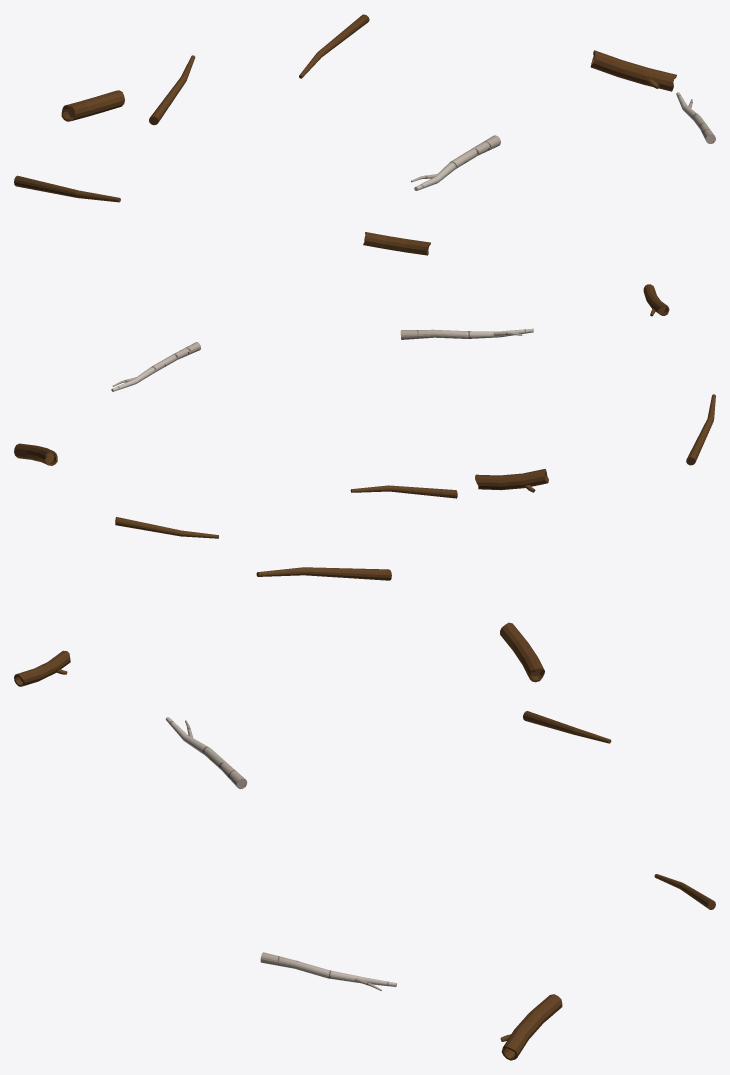
The model's file is Branches1.gltf.
3 views of the same model, one above another, from view 1: azimuth 30°, elevation 25°; view 2: azimuth 150°, elevation 25°; view 3: azimuth 270°, elevation 25° (orthographic). The views are drawn at different scales.
Visible parts, largest first — view 1: BeechBranch1 - copy.015, BeechBranch1 - copy.003, BirchBranch1 - copy.037, BeechBranch2 - copy.018, BeechBranch1 - copy.017, BeechBranch2 - copy.027, BeechBranch2 - copy.013, BirchBranch1 - copy.039; view 2: BeechBranch1 - copy.003, BirchBranch1 - copy.037, BirchBranch1 - copy.039, BeechBranch2 - copy.013, BeechBranch2 - copy.027, BeechBranch1 - copy.015, BeechBranch2 - copy.018, BeechBranch1 - copy.017; view 3: BeechBranch1 - copy.015, BeechBranch2 - copy.018, BirchBranch1 - copy.039, BeechBranch1 - copy.003, BirchBranch1 - copy.037, BeechBranch1 - copy.017.
Part boxes in pixels (bbox=[...]): BeechBranch1 - copy.015: bbox=[590, 50, 676, 91]; BeechBranch1 - copy.003: bbox=[61, 90, 124, 121]; BirchBranch1 - copy.037: bbox=[411, 135, 500, 190]; BeechBranch2 - copy.018: bbox=[14, 175, 120, 202]; BeechBranch1 - copy.017: bbox=[363, 232, 430, 255]; BeechBranch2 - copy.027: bbox=[299, 14, 369, 78]; BeechBranch2 - copy.013: bbox=[149, 55, 195, 125]; BirchBranch1 - copy.039: bbox=[676, 92, 715, 143]; BeechBranch1 - copy.003: bbox=[475, 469, 548, 492]; BirchBranch1 - copy.037: bbox=[400, 328, 533, 339]; BirchBranch1 - copy.039: bbox=[111, 342, 200, 391]; BeechBranch2 - copy.013: bbox=[350, 485, 457, 498]; BeechBranch2 - copy.027: bbox=[115, 517, 218, 538]; BeechBranch1 - copy.015: bbox=[14, 443, 57, 465]; BeechBranch2 - copy.018: bbox=[686, 394, 715, 465]; BeechBranch1 - copy.017: bbox=[643, 284, 669, 316]; BeechBranch1 - copy.015: bbox=[500, 994, 562, 1060]; BeechBranch2 - copy.018: bbox=[256, 567, 391, 580]; BirchBranch1 - copy.039: bbox=[260, 952, 396, 990]; BeechBranch1 - copy.003: bbox=[500, 622, 544, 682]; BirchBranch1 - copy.037: bbox=[165, 717, 247, 789]; BeechBranch1 - copy.017: bbox=[14, 650, 70, 686].
Size of the model in its own units: 16.16 by 3.17 by 13.3.
Materials: 3 (3 with a texture image).
